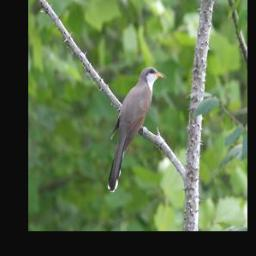Cuckoo: (106, 64, 167, 194)
